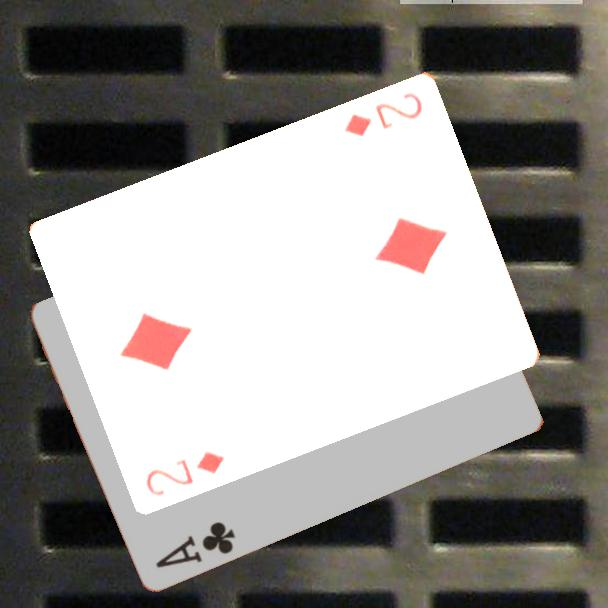c01: (152, 517, 239, 571)
d02: (142, 447, 228, 498), (341, 88, 426, 139)
